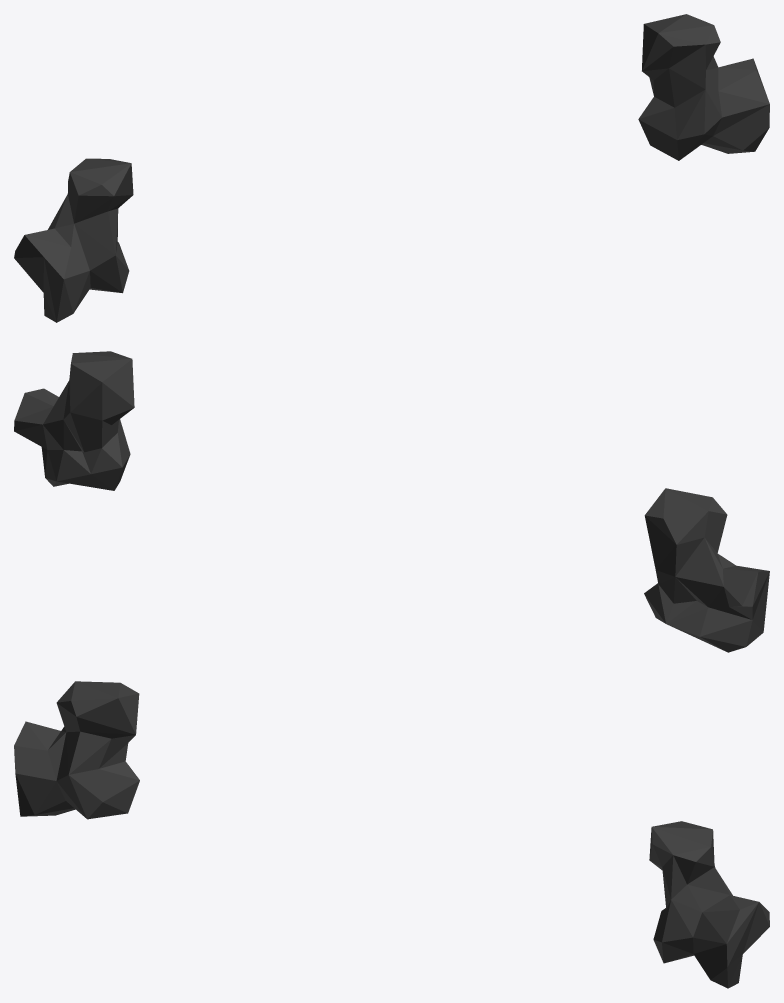
Rendered from Tarsal_talus.glb.
The picture shows the model from 3 angles, top to bottom: view 1: azimuth 30°, elevation 25°; view 2: azimuth 150°, elevation 25°; view 3: azimuth 330°, elevation 25°; orthographic projection.
Visible parts, largest first — view 1: Tarsal_talus; view 2: Tarsal_talus; view 3: Tarsal_talus.
Boxes of the visible parts, <box> form: Tarsal_talus: <box>14,14,769,322</box>; Tarsal_talus: <box>14,351,769,652</box>; Tarsal_talus: <box>14,681,769,988</box>.
Bounding box in the file's own units: 0.00541 × 0.001 × 0.000559.
1 material, 1 textured.
